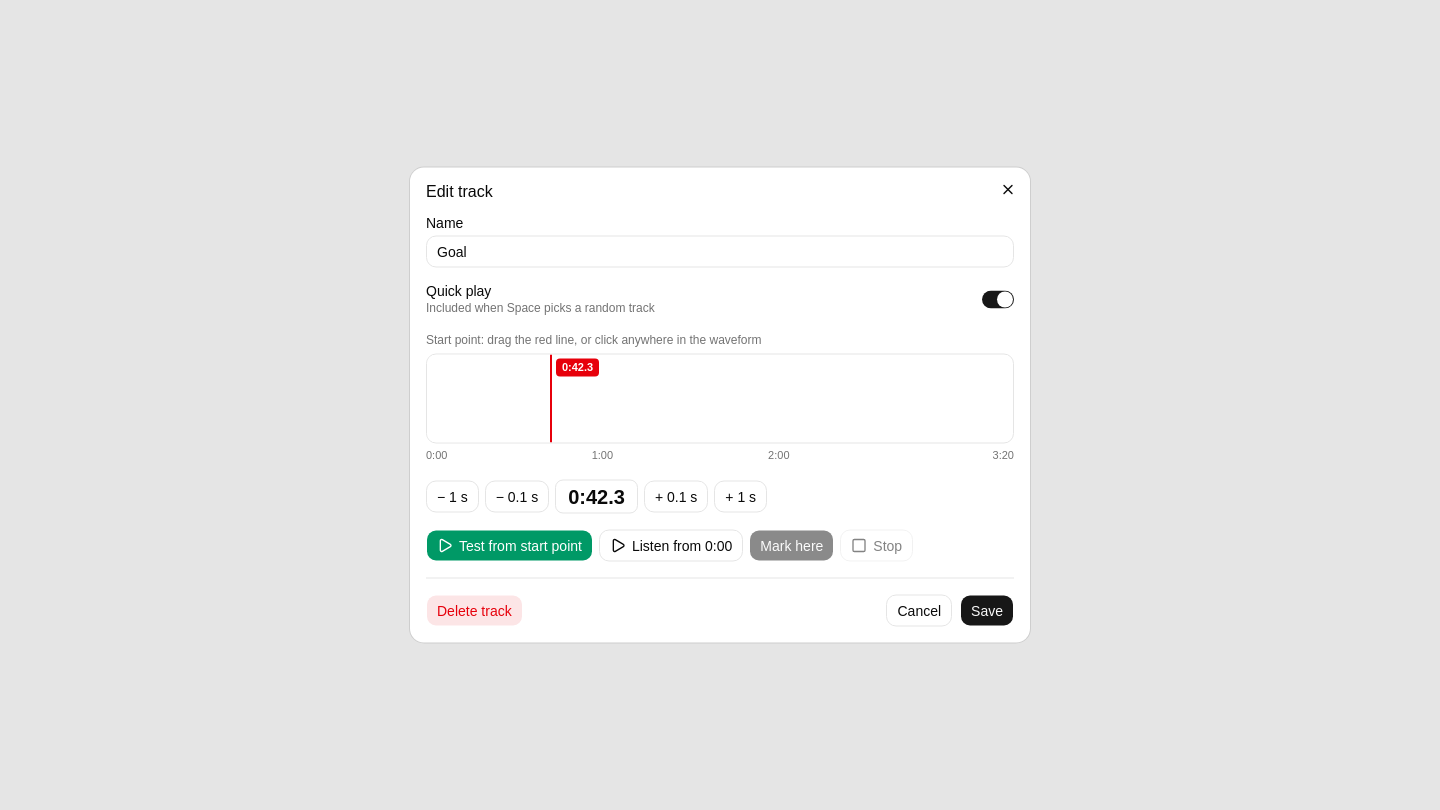
Test: clicking the waveform sets the start point, snapped
Later steps or results of the test are not shown.
Press the mouse on the element with test id "waveform" at (720, 398), box [426,354,1014,444]
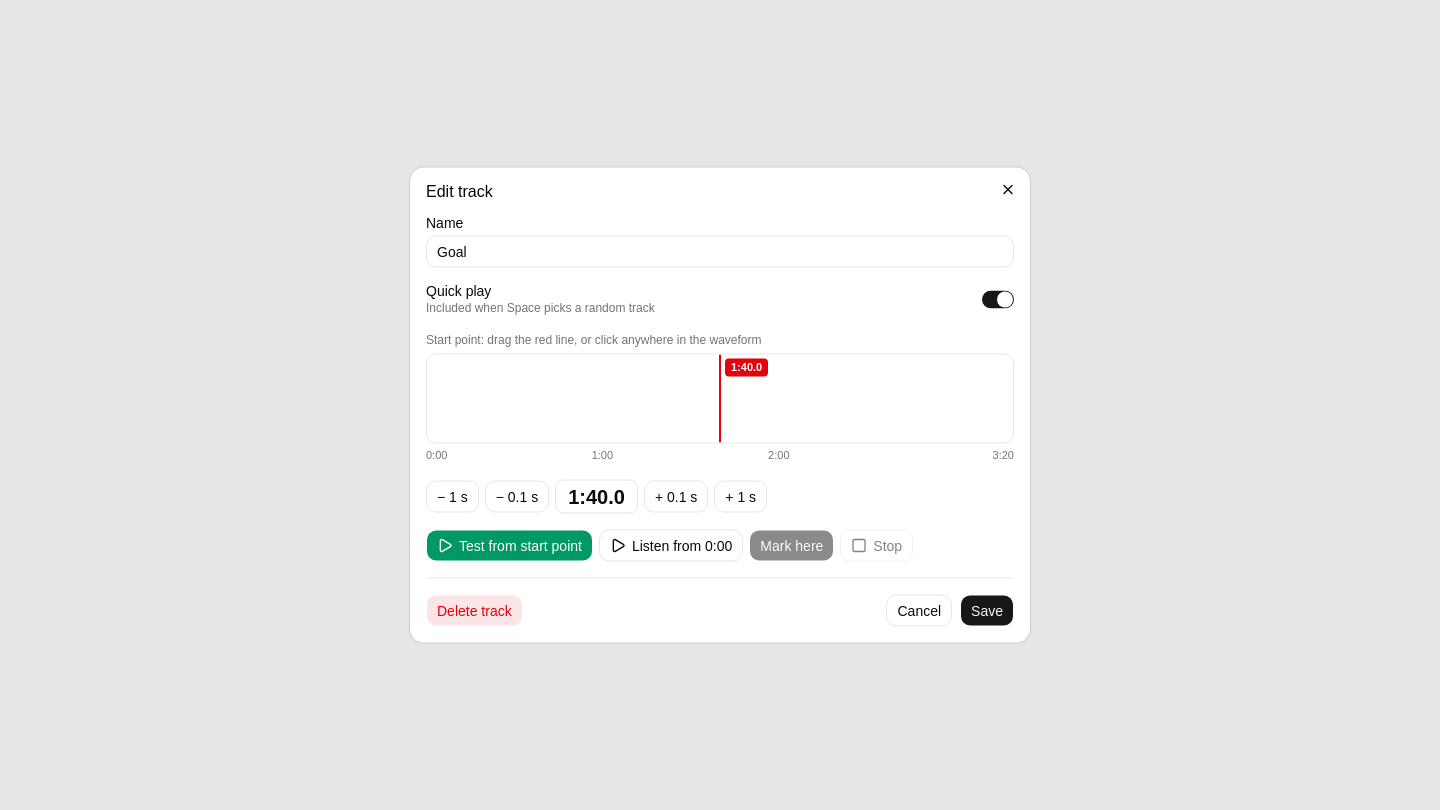
Result: the text named "Start point" reads "1:40.0" at [568,486,625,508]
Press the mouse on the element with test id "waveform" at (720, 398), box [426,354,1014,444]
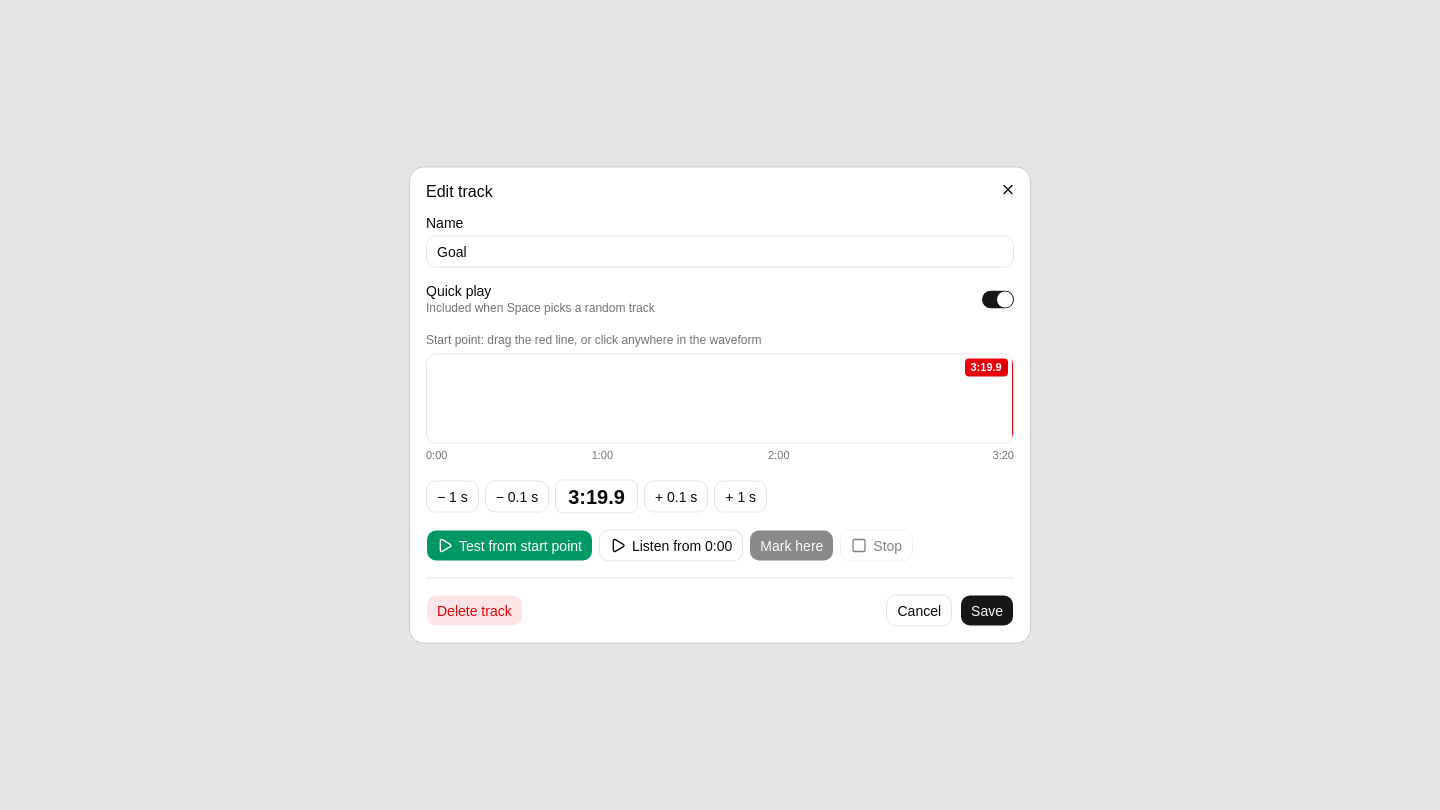
Result: the text named "Start point" reads "3:19.9" at [568,486,625,508]
